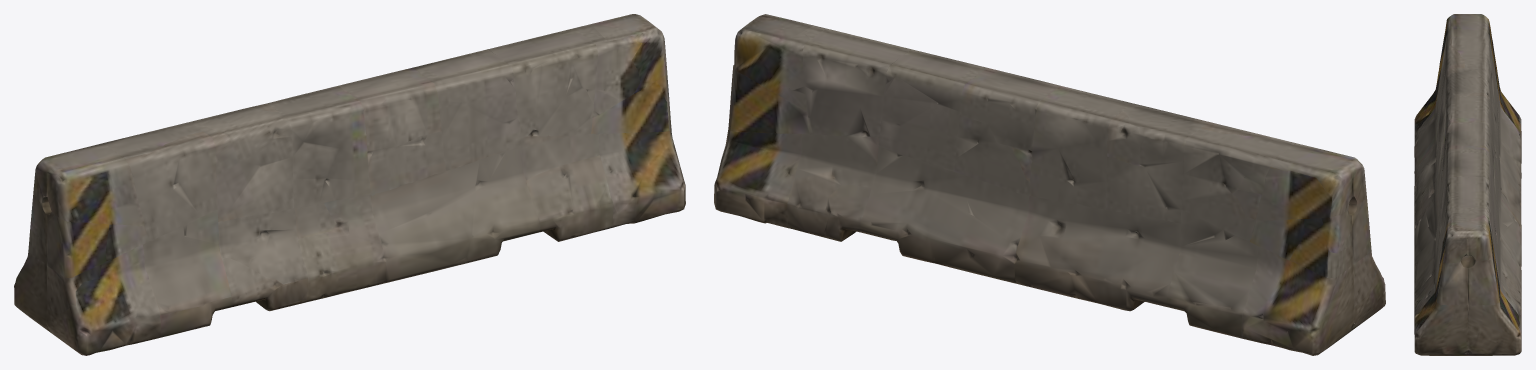
The model's file is veh-j-barrier.glb.
3 renders of one model, left to right at view 1: azimuth 30°, elevation 25°; view 2: azimuth 150°, elevation 25°; view 3: azimuth 270°, elevation 25°, orthographic. The views are drawn at different scales.
Parts seen in each view (by area): view 1: tripo_node_ced34f7c-1709-46a4-8bd5-b4ae04f32270; view 2: tripo_node_ced34f7c-1709-46a4-8bd5-b4ae04f32270; view 3: tripo_node_ced34f7c-1709-46a4-8bd5-b4ae04f32270.
Part boxes in pixels (x1,y1,x2,y2): tripo_node_ced34f7c-1709-46a4-8bd5-b4ae04f32270: (14,14,685,355); tripo_node_ced34f7c-1709-46a4-8bd5-b4ae04f32270: (714,14,1385,355); tripo_node_ced34f7c-1709-46a4-8bd5-b4ae04f32270: (1414,14,1521,355).
Bounding box in the file's own units: 0.9791 × 0.2563 × 0.2002.
1 material, 1 textured.
